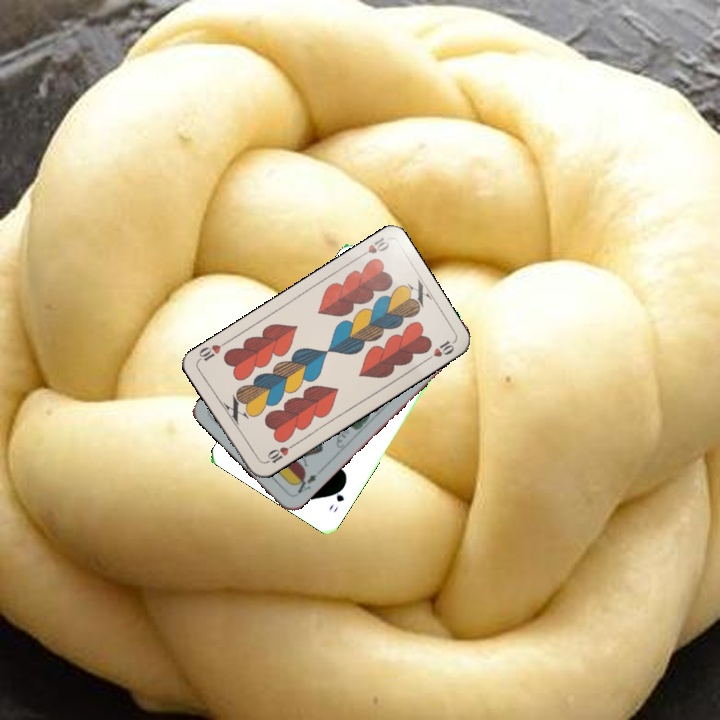EA: (290, 470, 319, 496)
GO: (325, 480, 348, 516)
H10: (354, 233, 392, 261), (261, 440, 297, 466)
